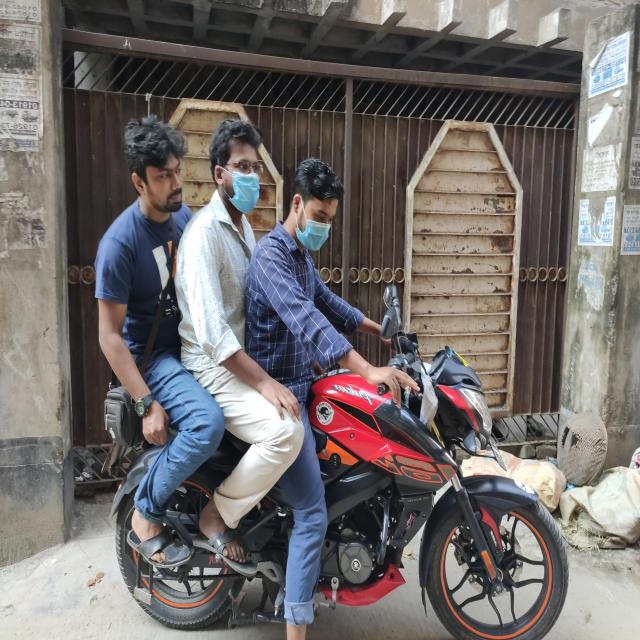triple_rider: (95, 117, 567, 640)
